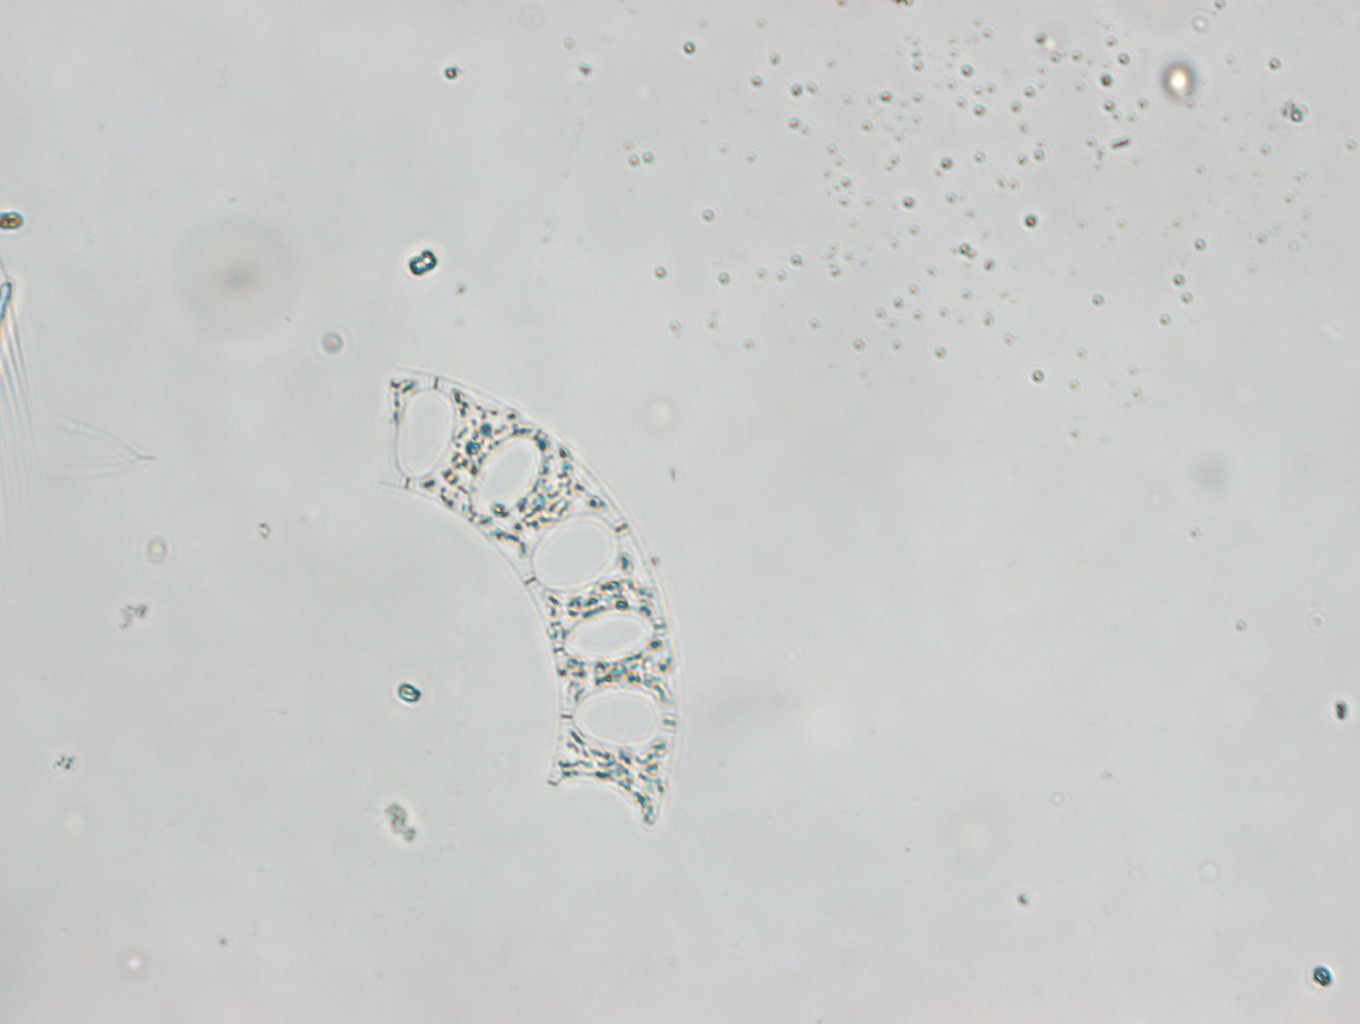eucampia: (383, 367, 679, 828)
